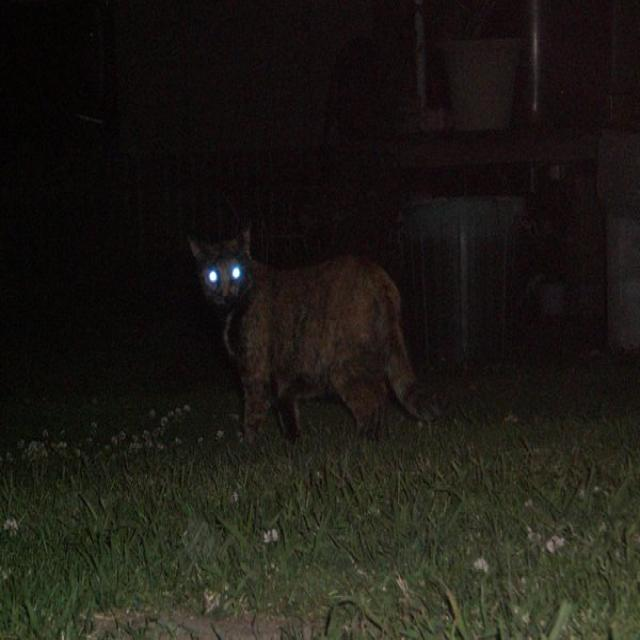Cat: (175, 214, 449, 437)
